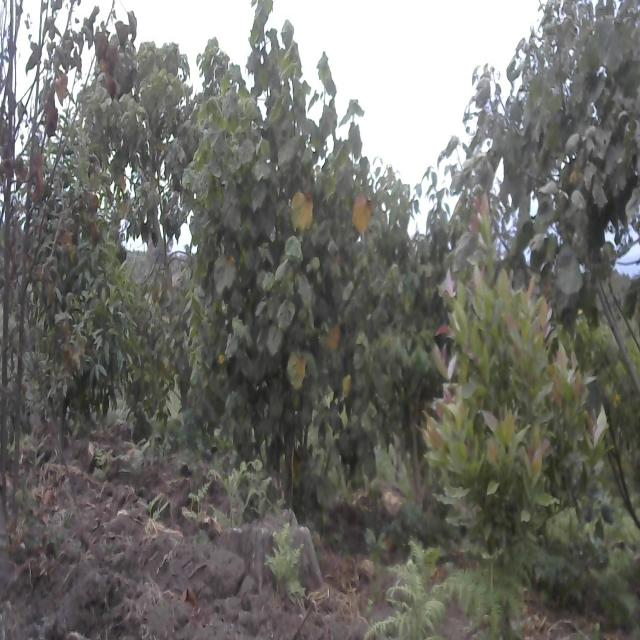Lemon Myrtle: (420, 201, 585, 640)
other: (196, 1, 398, 522), (0, 3, 130, 535), (104, 25, 203, 391), (478, 4, 640, 224)
